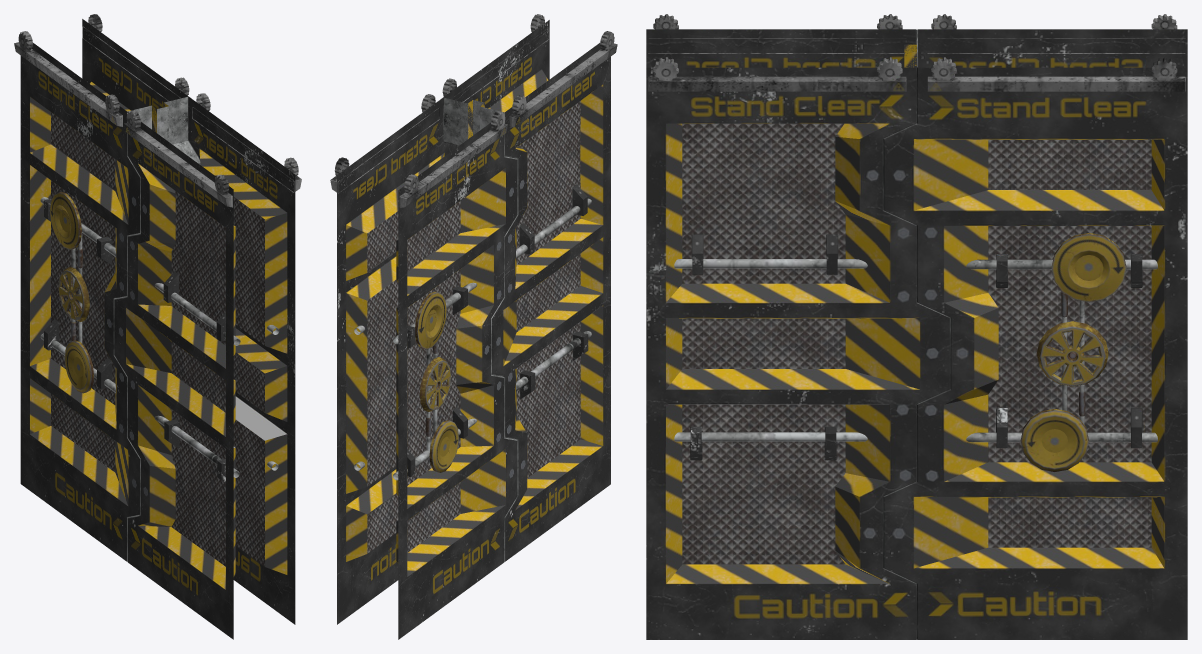
Rendered from blast_doors.glb.
The picture shows the model from 3 angles, left to right: view 1: azimuth 30°, elevation 25°; view 2: azimuth 150°, elevation 25°; view 3: azimuth 270°, elevation 25°; orthographic projection. The views are drawn at different scales.
Visible parts, largest first — view 1: LeftDoor, RightDoor, Mechanism3, Wheel1, Mechanism2; view 2: RightDoor, LeftDoor, Mechanism3, Wheel1, Mechanism2; view 3: LeftDoor, RightDoor, Mechanism1, Mechanism, Wheel.
Boxes of the visible parts, x1,y1,x2,y2 form: LeftDoor: [114, 96, 301, 639]; RightDoor: [14, 19, 200, 561]; Mechanism3: [50, 192, 81, 249]; Wheel1: [58, 266, 89, 321]; Mechanism2: [64, 340, 93, 393]; RightDoor: [330, 97, 517, 639]; LeftDoor: [443, 20, 617, 561]; Mechanism3: [415, 291, 446, 349]; Wheel1: [419, 357, 450, 411]; Mechanism2: [429, 420, 458, 472]; LeftDoor: [646, 29, 950, 639]; RightDoor: [883, 29, 1187, 639]; Mechanism1: [1051, 233, 1126, 302]; Mechanism: [1020, 409, 1088, 471]; Wheel: [1036, 321, 1108, 386].
Size of the model in its own units: 62.41 by 357 by 300.
1 material, 1 textured.
